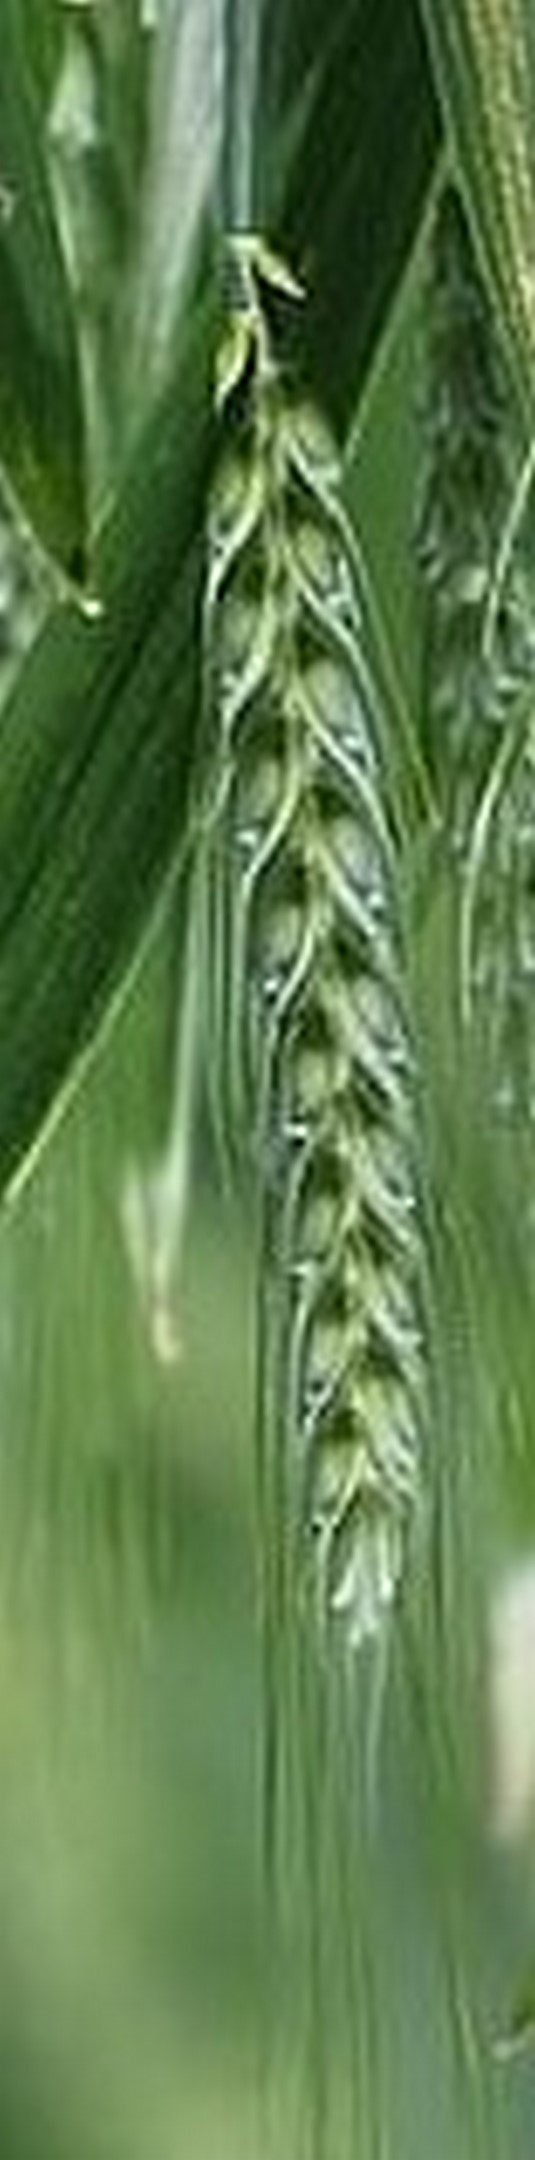Healthy Wheat: (152, 336, 484, 1675)
